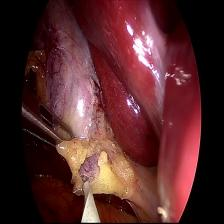Grasper: (20, 87, 74, 151)
Hook: (75, 168, 102, 224)
